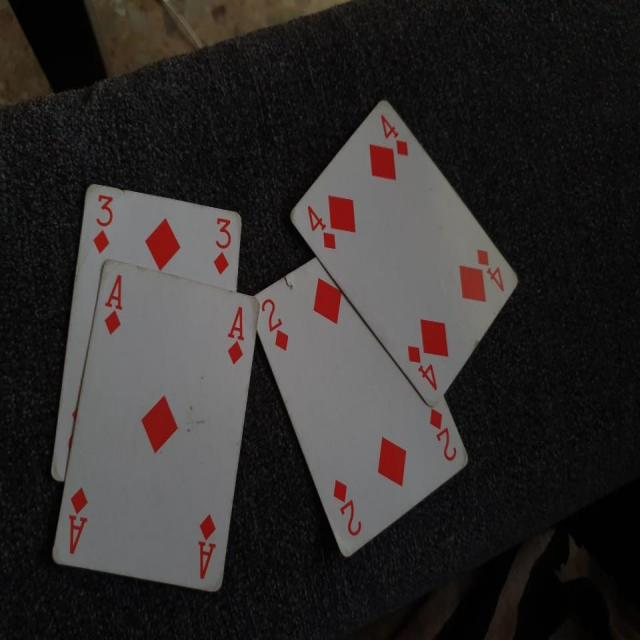2 Diamonds: (249, 252, 472, 562)
3 Diamonds: (51, 180, 246, 484)
4 Diamonds: (286, 100, 520, 410)
A Diamonds: (45, 257, 260, 598)
